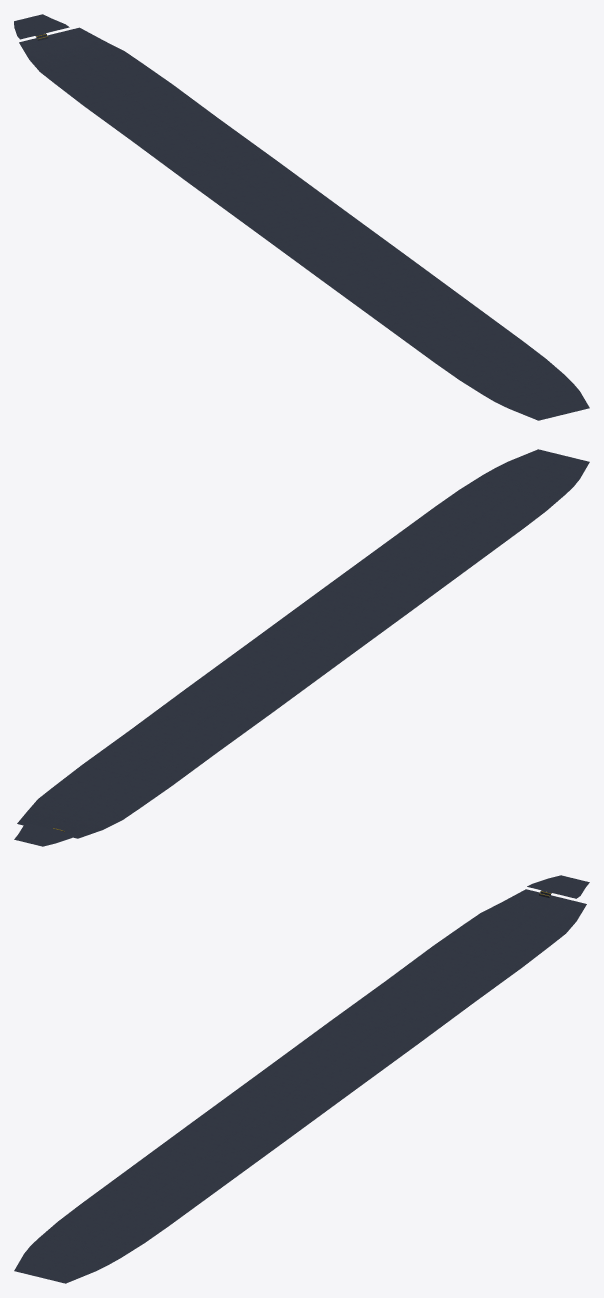
Rendered from Floor.fbx.
3 renders of one model, top to bottom at view 1: azimuth 30°, elevation 25°; view 2: azimuth 150°, elevation 25°; view 3: azimuth 330°, elevation 25°, orthographic.
Visible parts, largest first — view 1: 777_Floor.007, 777_Floor.008, 777_Floor.005, 777_Floor.001, 777_Floor.004, 777_Floor.003, 777_Floor.009, 777_Floor, 777_Floor.002, 777_Floor.006; view 2: 777_Floor.007, 777_Floor.008, 777_Floor.005, 777_Floor.001, 777_Floor.004, 777_Floor.009, 777_Floor.003, 777_Floor, 777_Floor.002, 777_Floor.006; view 3: 777_Floor.007, 777_Floor.008, 777_Floor.005, 777_Floor.001, 777_Floor.004, 777_Floor.003, 777_Floor.009, 777_Floor, 777_Floor.002, 777_Floor.006.
Boxes of the visible parts, left/top/right/bottom form: 777_Floor.007: left=273, top=223, right=445, bottom=305; 777_Floor.008: left=389, top=308, right=556, bottom=388; 777_Floor.005: left=185, top=157, right=343, bottom=231; 777_Floor.001: left=40, top=51, right=192, bottom=121; 777_Floor.004: left=131, top=118, right=274, bottom=180; 777_Floor.003: left=14, top=14, right=124, bottom=71; 777_Floor.009: left=474, top=368, right=589, bottom=420; 777_Floor: left=357, top=284, right=477, bottom=329; 777_Floor.002: left=105, top=100, right=218, bottom=139; 777_Floor.006: left=256, top=210, right=361, bottom=244; 777_Floor.007: left=272, top=564, right=444, bottom=647; 777_Floor.008: left=389, top=481, right=557, bottom=562; 777_Floor.005: left=185, top=638, right=343, bottom=713; 777_Floor.001: left=38, top=749, right=191, bottom=819; 777_Floor.004: left=129, top=690, right=273, bottom=752; 777_Floor.009: left=474, top=449, right=589, bottom=501; 777_Floor.003: left=14, top=799, right=122, bottom=846; 777_Floor: left=356, top=541, right=476, bottom=585; 777_Floor.002: left=104, top=731, right=216, bottom=770; 777_Floor.006: left=255, top=626, right=360, bottom=660; 777_Floor.007: left=159, top=1085, right=331, bottom=1168; 777_Floor.008: left=46, top=1170, right=214, bottom=1251; 777_Floor.005: left=260, top=1019, right=418, bottom=1094; 777_Floor.001: left=412, top=913, right=565, bottom=983; 777_Floor.004: left=330, top=980, right=474, bottom=1042; 777_Floor.003: left=481, top=875, right=589, bottom=933; 777_Floor.009: left=14, top=1231, right=129, bottom=1283; 777_Floor: left=127, top=1147, right=247, bottom=1191; 777_Floor.002: left=387, top=962, right=499, bottom=1001; 777_Floor.006: left=243, top=1072, right=348, bottom=1106.
Bounding box in the file's own units: 5.99 × 0.3532 × 62.28.
